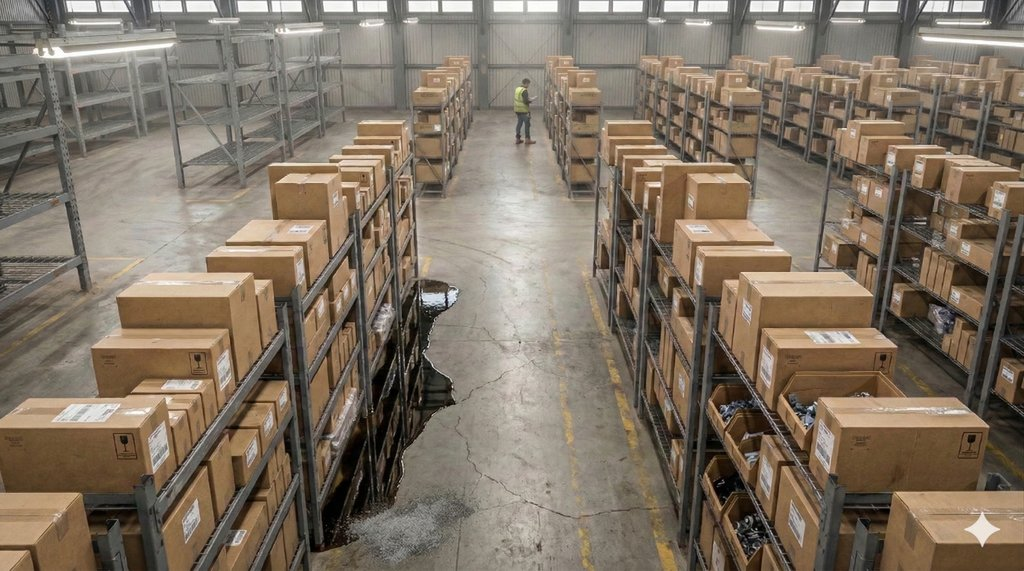empty_shelf: (1, 42, 103, 284), (181, 31, 287, 161), (290, 33, 354, 134), (108, 50, 172, 138)
person: (510, 59, 539, 150)
safety_vest: (513, 79, 531, 127)
spill: (343, 284, 471, 546)
